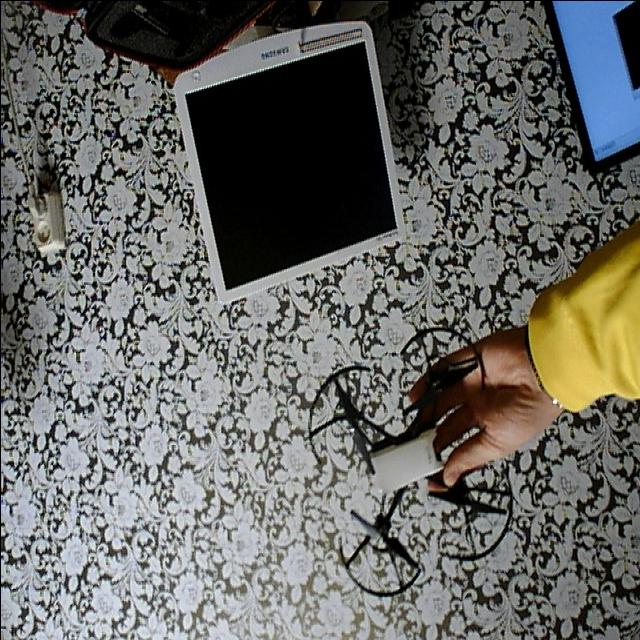drone: (292, 318, 522, 602)
